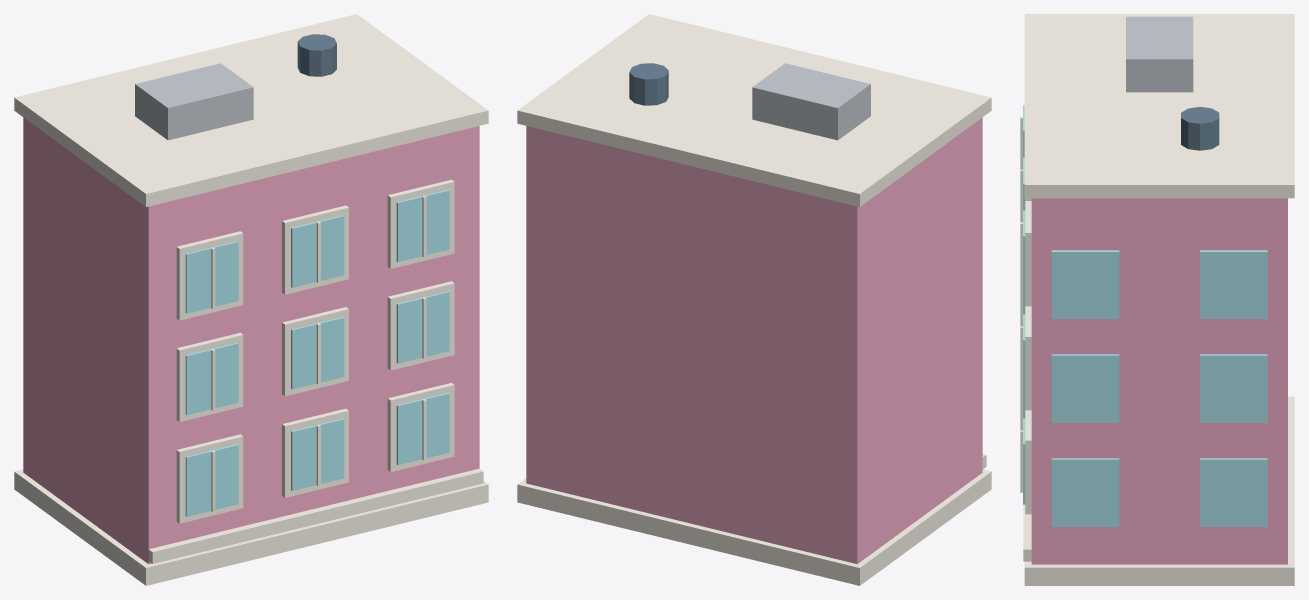
The model's file is 09_corner_building.glb.
3 views of the same model, side by side, from view 1: azimuth 30°, elevation 25°; view 2: azimuth 150°, elevation 25°; view 3: azimuth 270°, elevation 25° (orthographic). The views are drawn at different scales.
Parts seen in each view (by area): view 1: 09_corner_building; view 2: 09_corner_building; view 3: 09_corner_building.
Part boxes in pixels (bbox=[...]): 09_corner_building: bbox=[14, 14, 488, 585]; 09_corner_building: bbox=[517, 14, 991, 585]; 09_corner_building: bbox=[1020, 14, 1294, 585].
Bounding box in the file's own units: 6 × 7.1 × 4.07.
